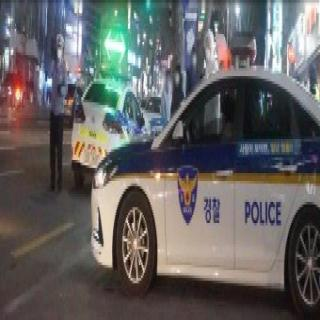Police_car: (90, 39, 320, 320), (70, 63, 149, 187)
